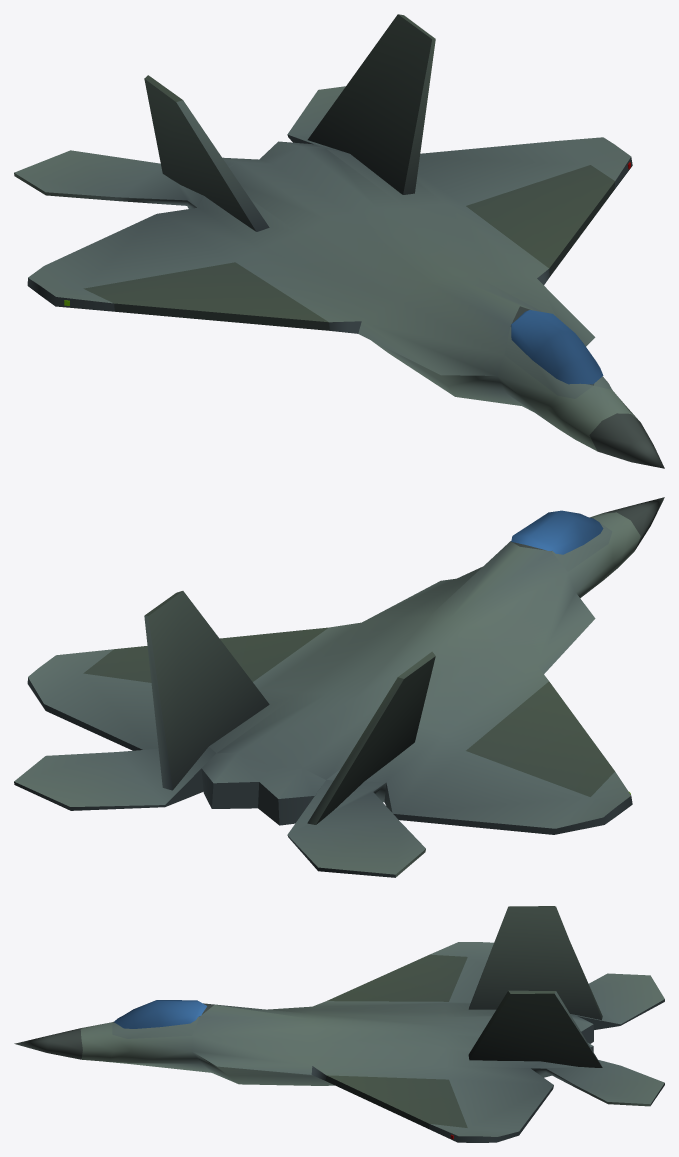
Rendered from vehicles-aircraft-fighter-jet_v1.fbx.
3 renders of one model, top to bottom at view 1: azimuth 30°, elevation 25°; view 2: azimuth 150°, elevation 25°; view 3: azimuth 270°, elevation 25°, orthographic. The views are drawn at different scales.
Visible parts, largest first — view 1: Fighter Jet; view 2: Fighter Jet; view 3: Fighter Jet.
Boxes of the visible parts, x1=… form: Fighter Jet: x1=14, y1=14, x2=664, y2=468; Fighter Jet: x1=14, y1=497, x2=664, y2=877; Fighter Jet: x1=14, y1=906, x2=664, y2=1142.
Size of the model in its own units: 13.45 by 4 by 19.
